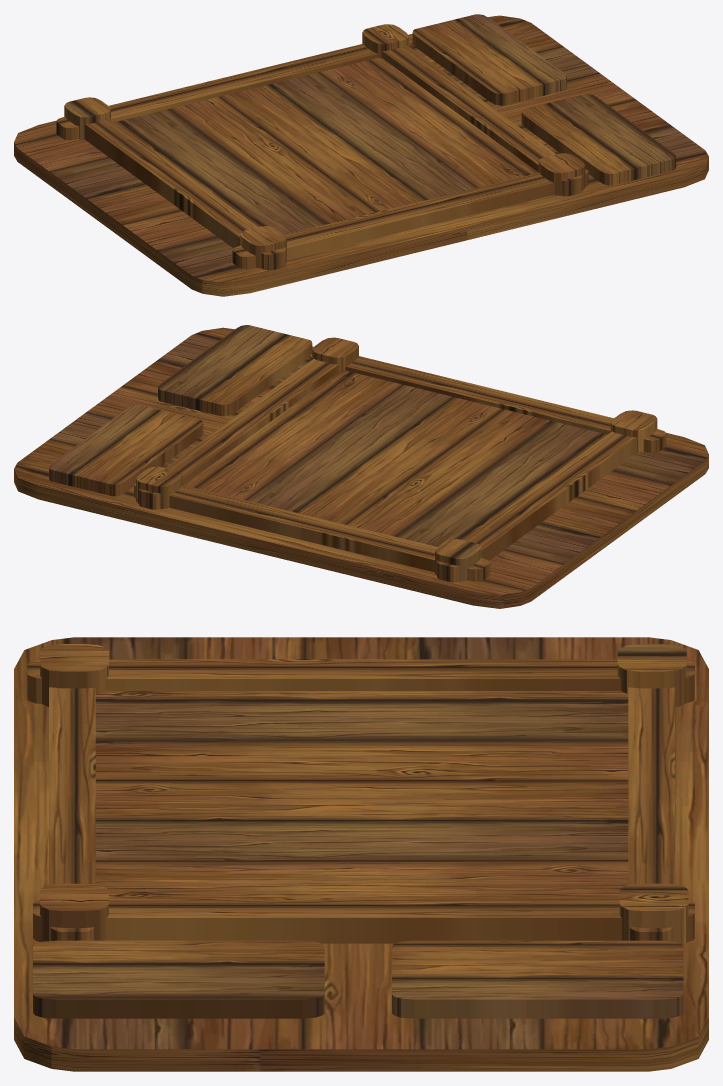
The model's file is CardFrame.FBX.
The picture shows the model from 3 angles, top to bottom: view 1: azimuth 30°, elevation 25°; view 2: azimuth 150°, elevation 25°; view 3: azimuth 270°, elevation 25°; orthographic projection. The views are drawn at different scales.
Visible parts, largest first — view 1: PictureSlot, Frame, Front, Back, NoButton, YesButton; view 2: PictureSlot, Frame, Front, Back, YesButton, NoButton; view 3: PictureSlot, Frame, Front, NoButton, YesButton, Back.
Part boxes in pixels (bbox=[...]): PictureSlot: bbox=[115, 58, 538, 234]; Frame: bbox=[56, 24, 588, 270]; Front: bbox=[14, 15, 708, 282]; Back: bbox=[14, 142, 708, 296]; NoButton: bbox=[412, 14, 566, 105]; YesButton: bbox=[521, 94, 675, 185]; PictureSlot: bbox=[184, 370, 607, 546]; Frame: bbox=[134, 337, 666, 582]; Front: bbox=[14, 327, 708, 595]; Back: bbox=[14, 455, 708, 608]; YesButton: bbox=[158, 325, 312, 416]; NoButton: bbox=[49, 405, 203, 496]; PictureSlot: bbox=[95, 691, 628, 898]; Frame: bbox=[27, 644, 694, 944]; Front: bbox=[14, 637, 708, 1049]; NoButton: bbox=[392, 940, 683, 1018]; YesButton: bbox=[33, 940, 324, 1018]; Back: bbox=[14, 1018, 708, 1071].
Size of the model in its own units: 56.14 by 3.76 by 40.
